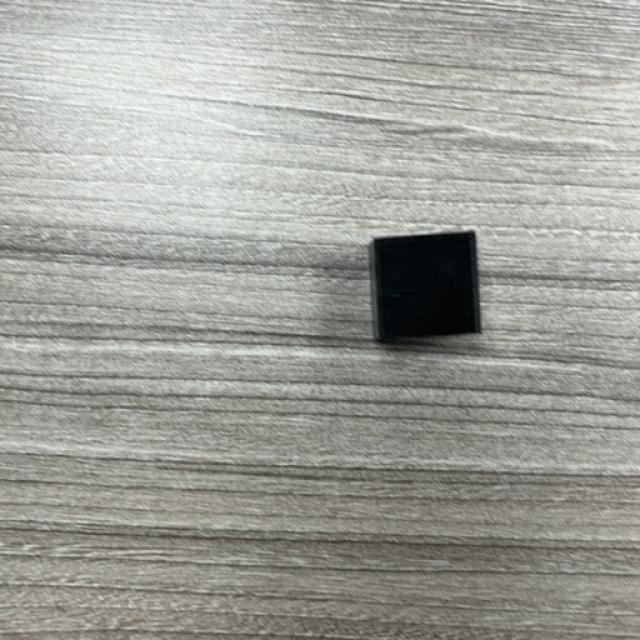Negro: (370, 230, 482, 342)
